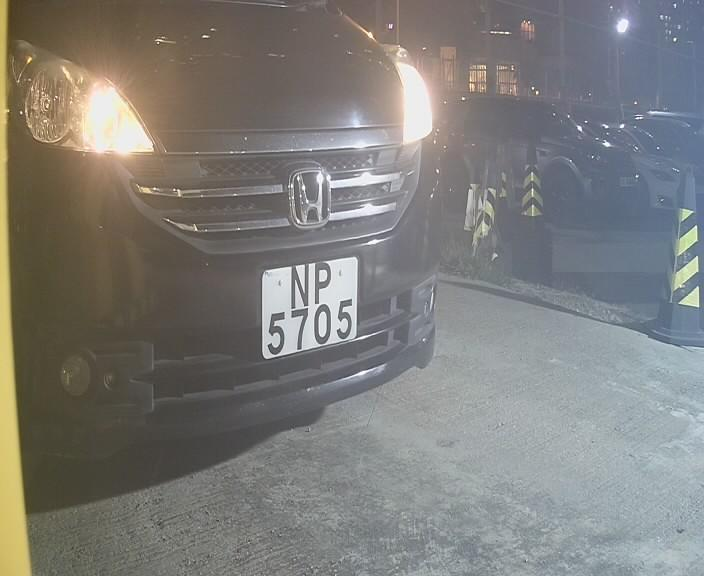Car: (13, 1, 535, 476)
License Plate: (252, 242, 375, 373)
